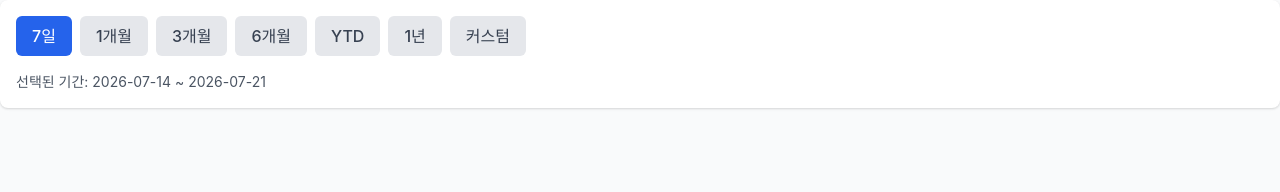
Test: DateRangeSelector › 커스텀 버튼 클릭 시 날짜 입력 필드를 표시한다
Note: 커스텀 버튼 클릭
Click the button "커스텀".
click(488, 36)  # box [450,16,526,56]
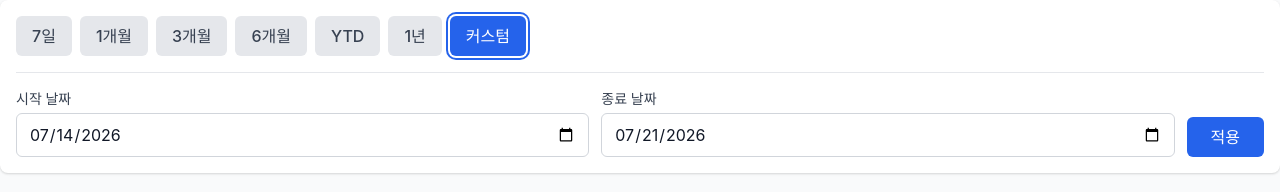
Now the date field labelled "시작 날짜" is shown, box [16,113,589,157]
Now the date field labelled "종료 날짜" is shown, box [601,113,1175,157]
Now the button "적용" is shown, box [1187,117,1264,157]
